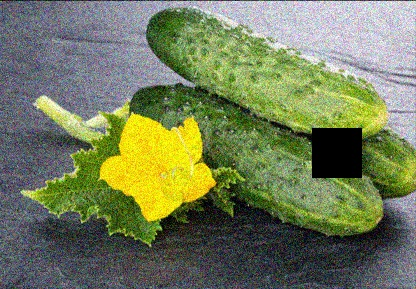cucumber: (146, 4, 387, 123)
cucumber_plant: (22, 99, 214, 239)
